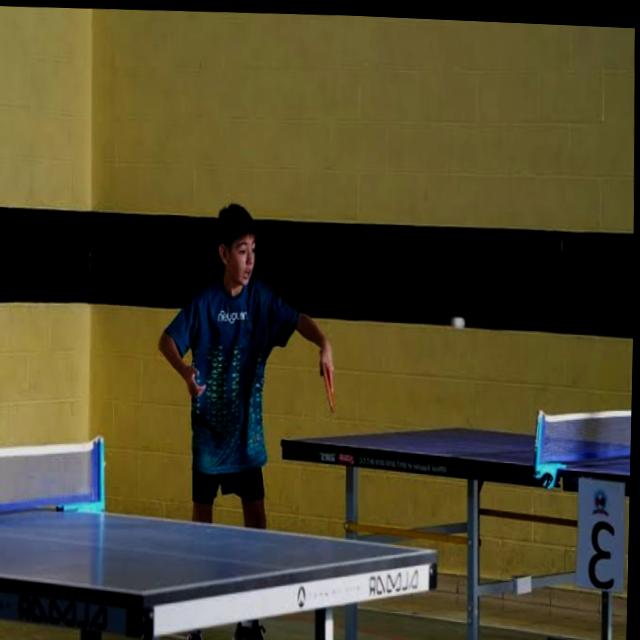TT Net: (0, 435, 105, 521), (532, 404, 631, 477)
TT Racket: (317, 356, 341, 422)
TT Table: (0, 507, 439, 602), (282, 424, 631, 477)
